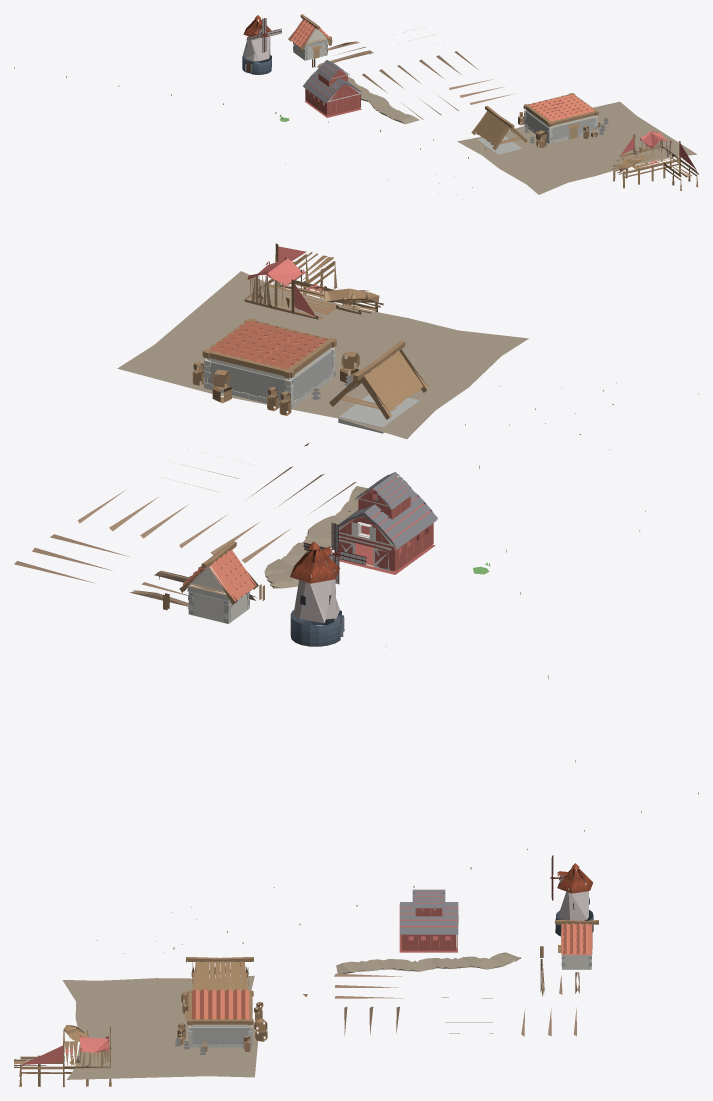
Rendered from chunk_2_0_lod2.glb.
3 views of the same model, one above another, from view 1: azimuth 30°, elevation 25°; view 2: azimuth 150°, elevation 25°; view 3: azimuth 270°, elevation 25° (orthographic). The views are drawn at different scales.
Visible parts, largest first — view 1: Batched_Chunk_2_0.001; view 2: Batched_Chunk_2_0.001; view 3: Batched_Chunk_2_0.001.
Boxes of the visible parts, left/top/right/bottom form: Batched_Chunk_2_0.001: left=14, top=14, right=698, bottom=195; Batched_Chunk_2_0.001: left=14, top=243, right=698, bottom=762; Batched_Chunk_2_0.001: left=14, top=792, right=698, bottom=1086.
Bounding box in the file's own units: 101 × 15.75 × 108.
24 materials, 4 textured.
